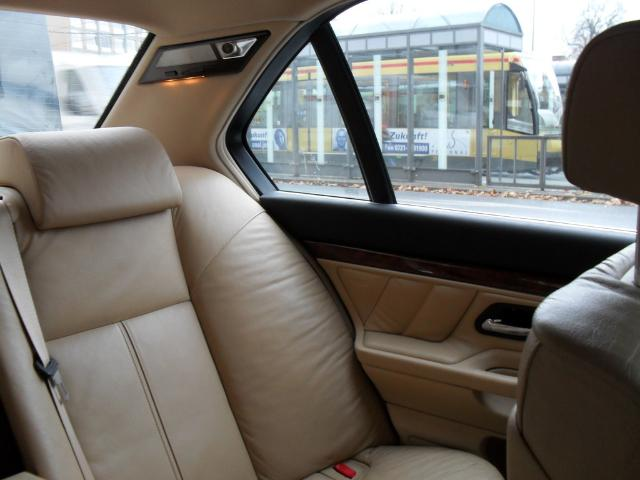Seatbelt: (2, 200, 98, 480)
